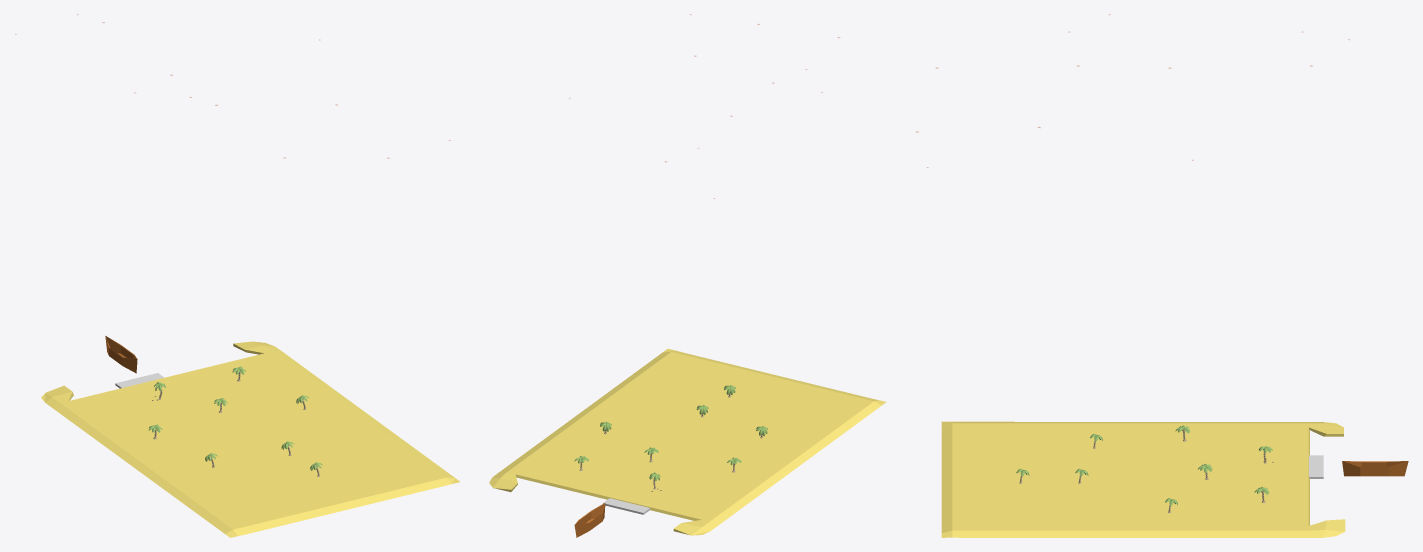
The model's file is playa.gltf.
The picture shows the model from 3 angles, left to right: view 1: azimuth 30°, elevation 25°; view 2: azimuth 150°, elevation 25°; view 3: azimuth 270°, elevation 25°; orthographic projection. The views are drawn at different scales.
Visible parts, largest first — view 1: Plane, Cube; view 2: Plane, Cube; view 3: Plane, Cube.
Part boxes in pixels (<box>): Plane: <box>41,341,459,537</box>; Cube: <box>105,336,137,373</box>; Plane: <box>489,349,886,535</box>; Cube: <box>574,503,605,537</box>; Plane: <box>941,421,1345,537</box>; Cube: <box>1342,461,1408,476</box>.
Size of the model in its own units: 64.13 by 97.09 by 107.
32 materials, 2 textured.
